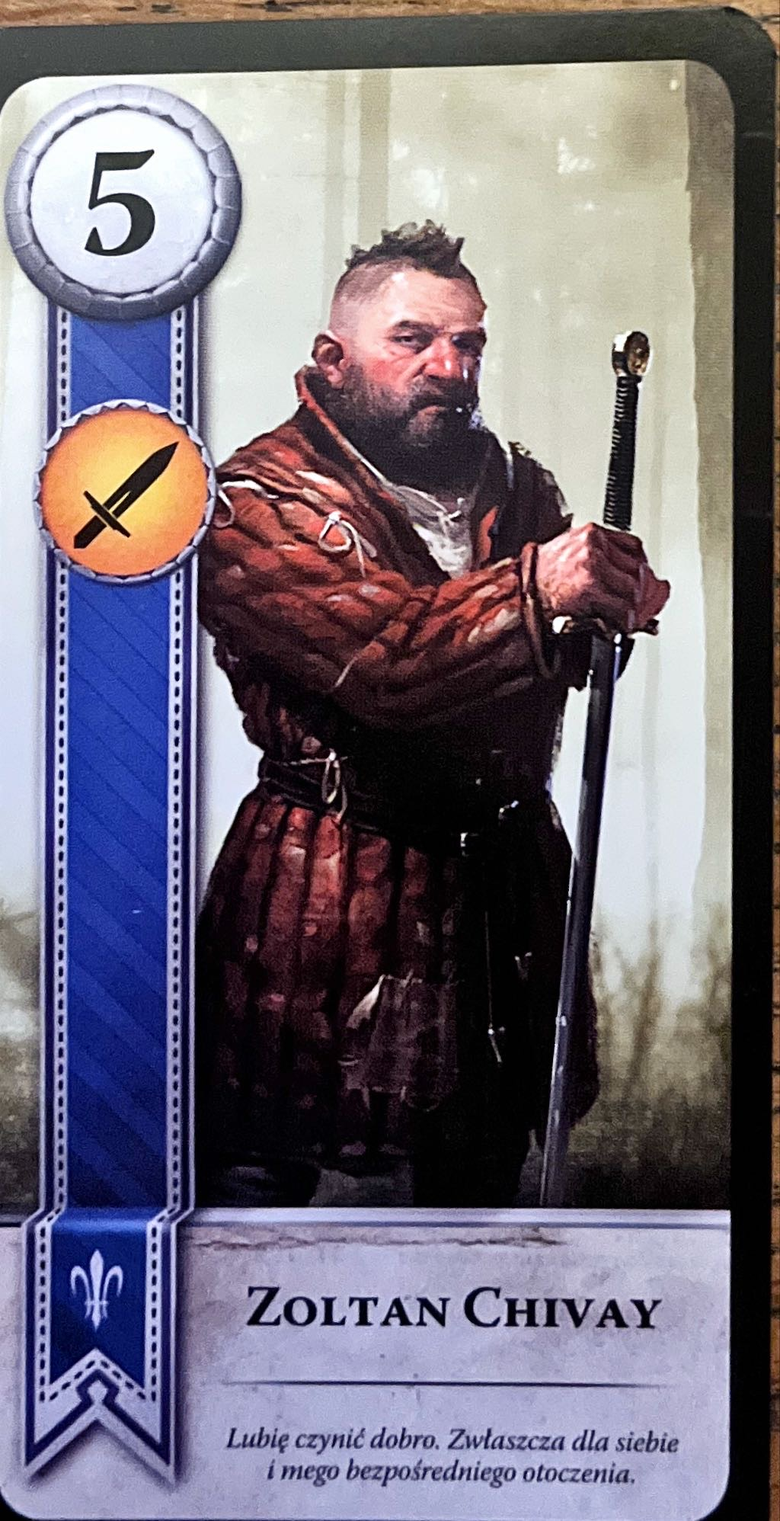5: (7, 85, 245, 313)
miecz: (35, 399, 219, 585)
